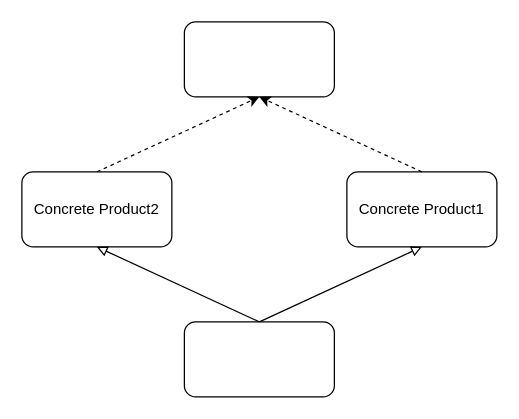
The diagram is 519 pixels wide and 419 high, and some of its shapes have lost their labels. The shapes that lost their labels are listed below. From the top down, each one's centre as x and y in pixels, then its label:
At (x=258, y=59): "Abstract Product".
At (x=258, y=359): "Factory".
